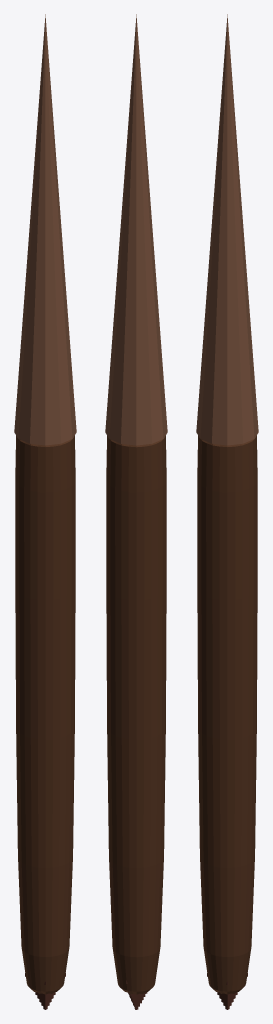
Rendered from Wand 24.glb.
3 views of the same model, side by side, from view 1: azimuth 90°, elevation 25°; view 2: azimuth 150°, elevation 25°; view 3: azimuth 270°, elevation 25° (orthographic).
Visible parts, largest first — view 1: GeneratedWand; view 2: GeneratedWand; view 3: GeneratedWand.
Part boxes in pixels (x1,y1,x2,y2): GeneratedWand: (14,14,76,1009); GeneratedWand: (105,14,167,1009); GeneratedWand: (196,14,258,1009).
Bounding box in the file's own units: 0.0282 × 0.4958 × 0.0282.
